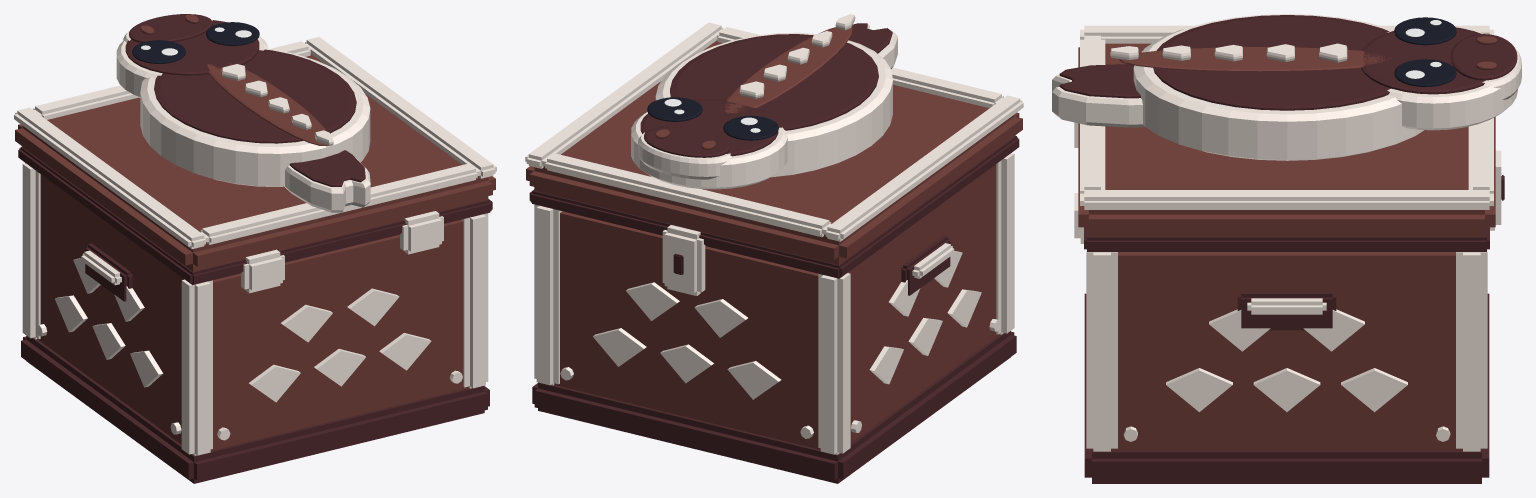
File: crate_dragao_lava_filhote.fbx
3 renders of one model, left to right at view 1: azimuth 30°, elevation 25°; view 2: azimuth 150°, elevation 25°; view 3: azimuth 270°, elevation 25°, orthographic. The views are drawn at different scales.
Parts seen in each view (by area): view 1: crate_dragao_lava_filhote_caixa; view 2: crate_dragao_lava_filhote_caixa; view 3: crate_dragao_lava_filhote_caixa.
Part boxes in pixels (x1=…): crate_dragao_lava_filhote_caixa: x1=14, y1=14, x2=496, y2=483; crate_dragao_lava_filhote_caixa: x1=525, y1=14, x2=1023, y2=483; crate_dragao_lava_filhote_caixa: x1=1052, y1=14, x2=1521, y2=483.
Bounding box in the file's own units: 2.68 × 2.45 × 2.95.
1 material, 1 textured.
